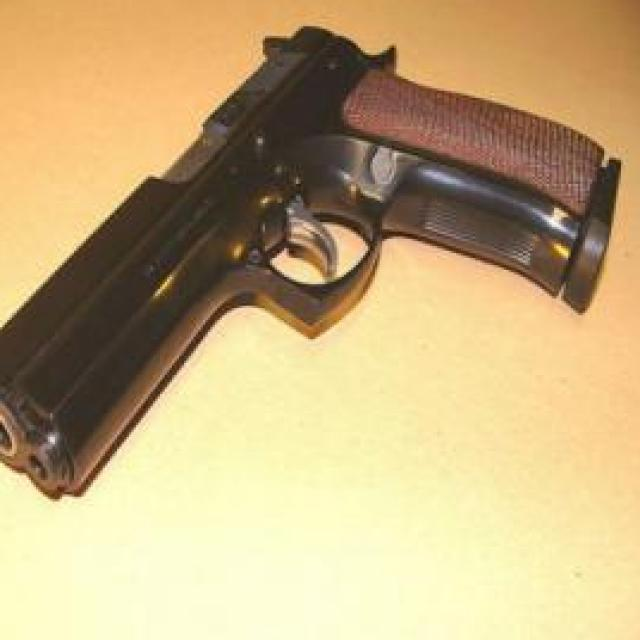pistol: (0, 4, 624, 506)
